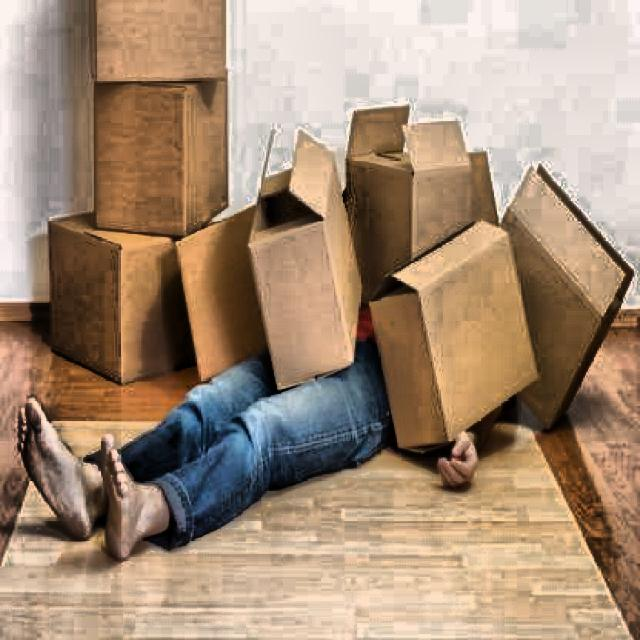Cardbox: (365, 141, 637, 452), (234, 122, 369, 385), (172, 196, 352, 372), (50, 204, 206, 385), (88, 68, 218, 240), (65, 0, 243, 89), (348, 107, 410, 158)
